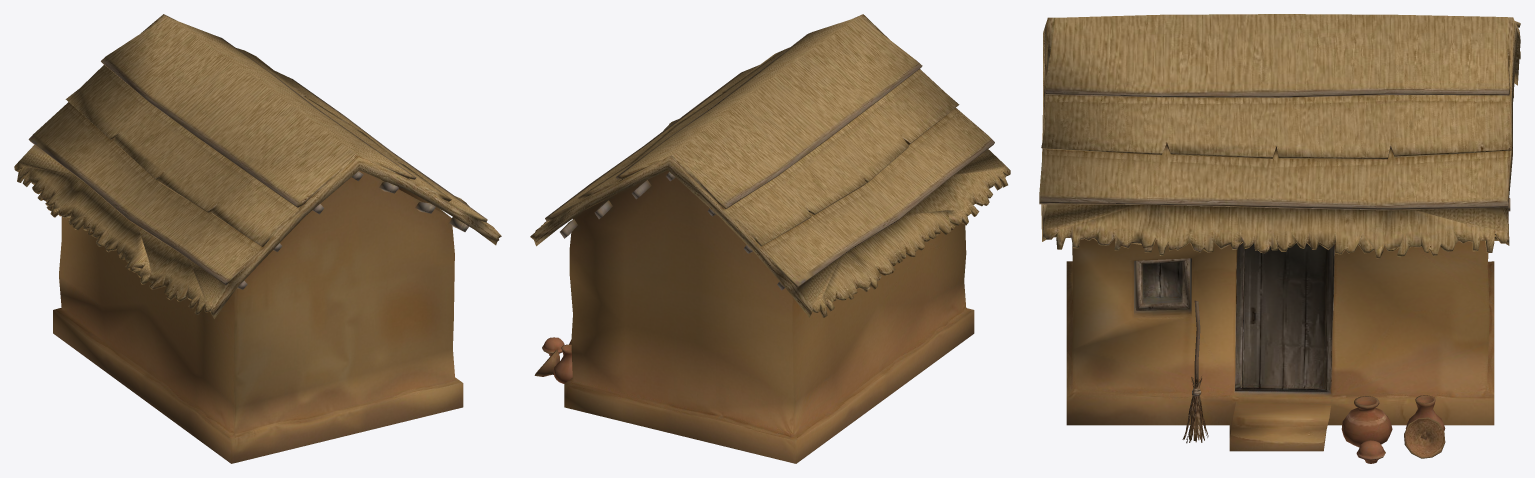
Rendered from tripo_convert_f6209fc1-dba2-4ca4-ba2a-1029f6fcd59e.fbx.
3 views of the same model, side by side, from view 1: azimuth 30°, elevation 25°; view 2: azimuth 150°, elevation 25°; view 3: azimuth 270°, elevation 25° (orthographic). The views are drawn at different scales.
Visible parts, largest first — view 1: tripo_node_f6209fc1; view 2: tripo_node_f6209fc1; view 3: tripo_node_f6209fc1.
Boxes of the visible parts, left/top/right/bottom form: tripo_node_f6209fc1: left=14, top=14, right=501, bottom=463; tripo_node_f6209fc1: left=530, top=14, right=1010, bottom=463; tripo_node_f6209fc1: left=1039, top=14, right=1520, bottom=463.
Bounding box in the file's own units: 0.9941 × 0.791 × 0.998.
